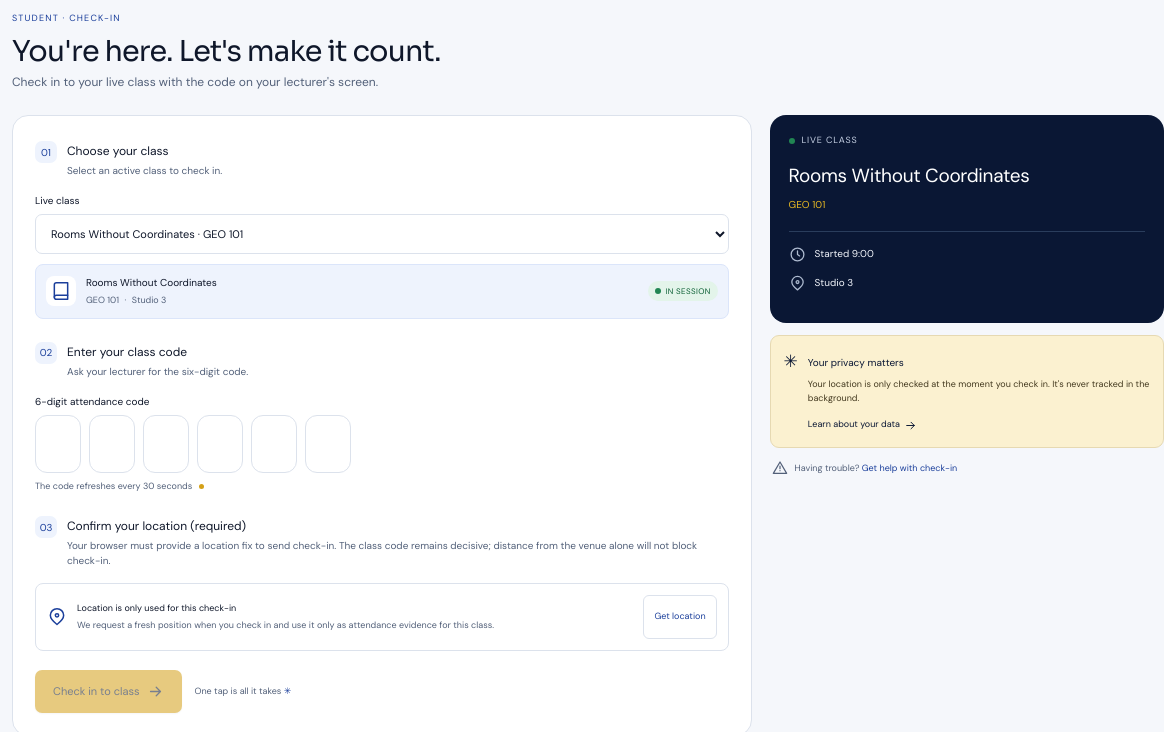
Test: student check-in › sends a distant GPS fix without rejecting check-in in the frontend
Type "418203" into the field named "Code digit 1".
click(58, 444); type("418203")  # box top-left (35, 415), bottom-right (81, 473)
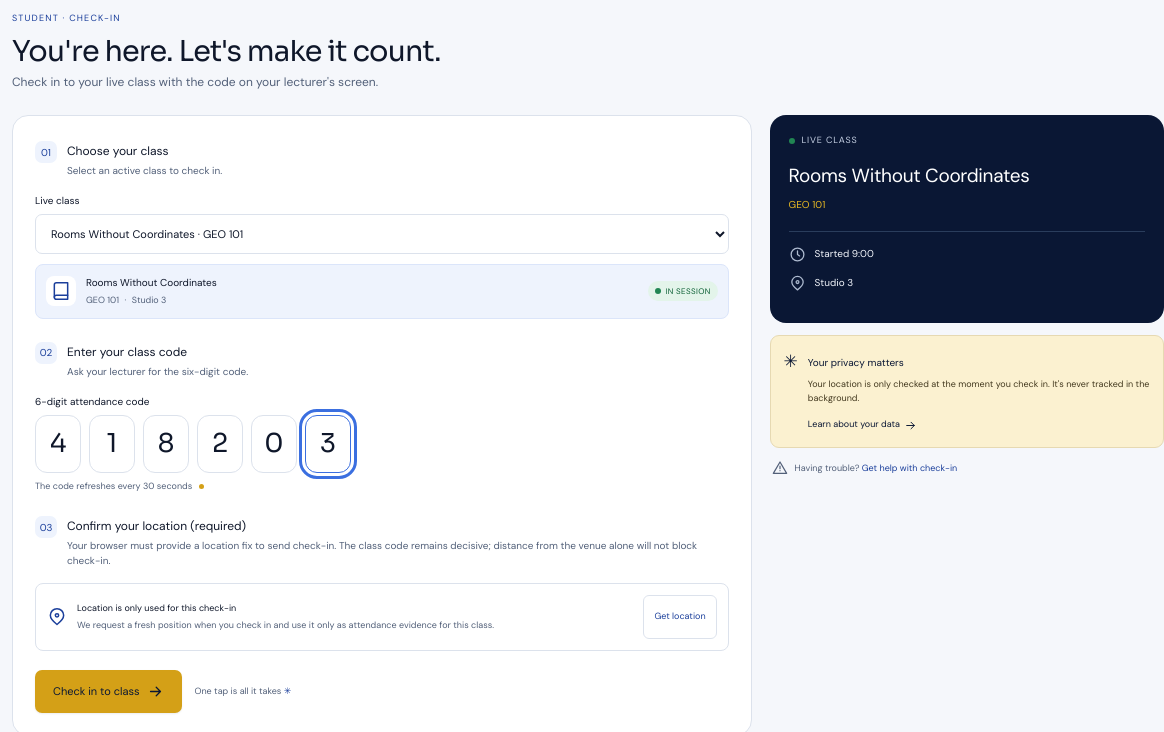
Click the button "Check in to class".
click(109, 692)  # box top-left (35, 670), bottom-right (182, 713)
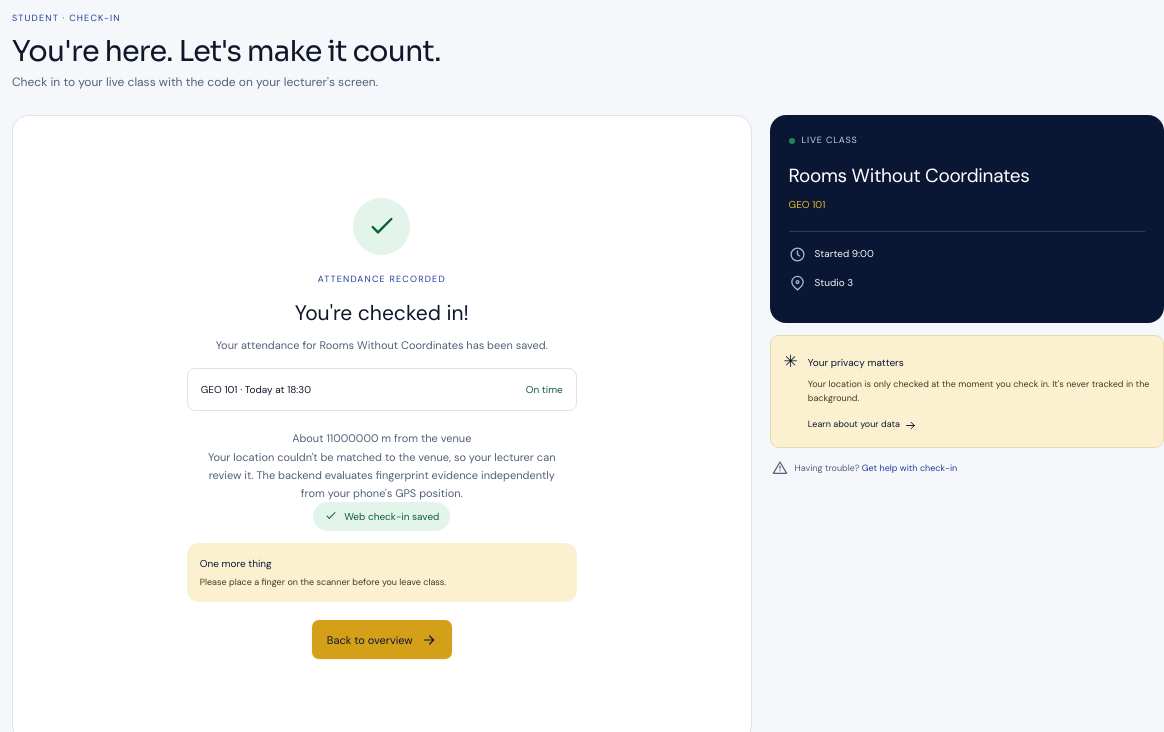
Now the heading "You're checked in!" is shown, box top-left (295, 298), bottom-right (469, 329)
Now the text "your lecturer can review it" is shown, box top-left (208, 450), bottom-right (555, 500)
